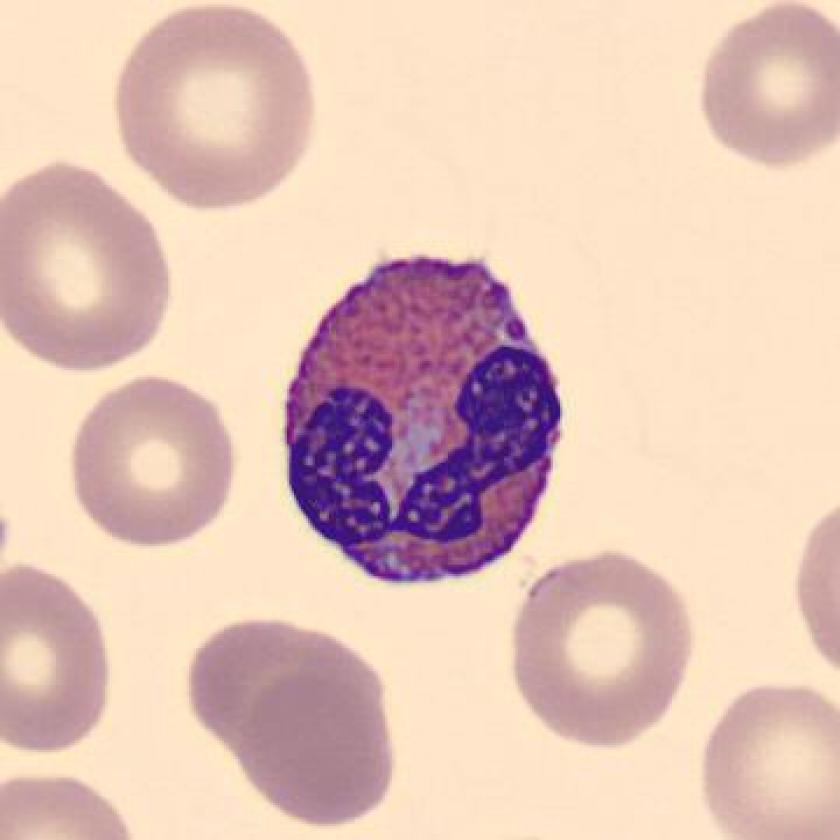eosinophil: (272, 239, 580, 598)
